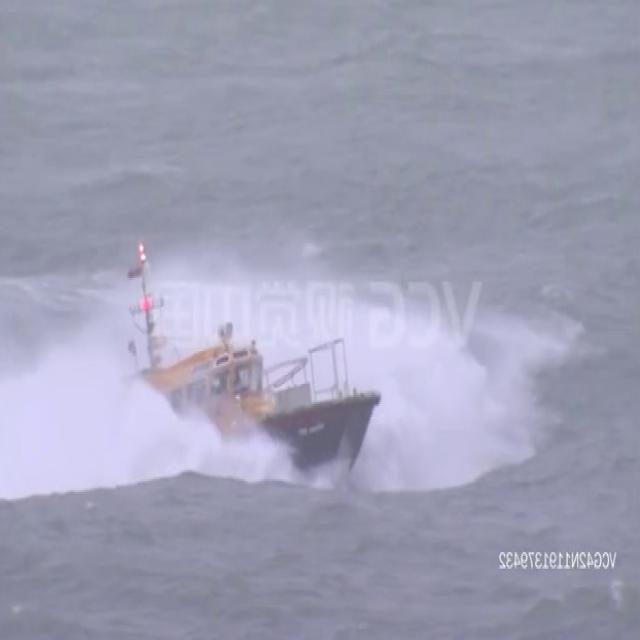houseboat: (116, 244, 381, 496)
